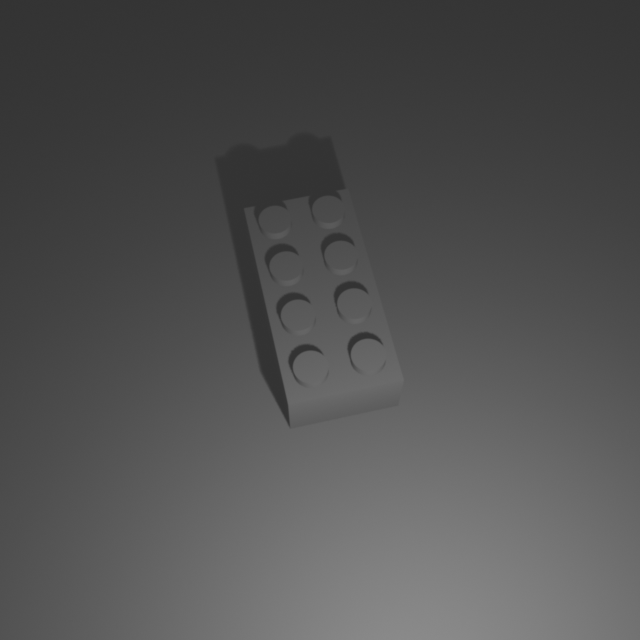lego_2x4: (243, 182, 405, 429)
